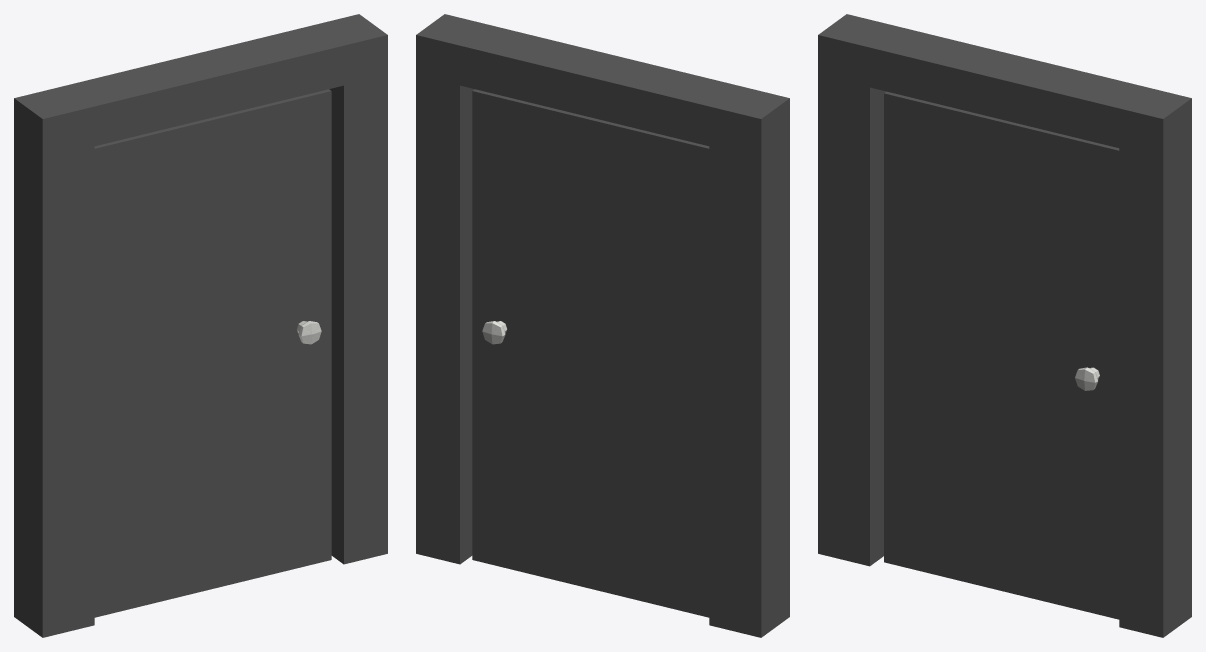
File: door.glb
The picture shows the model from 3 angles, left to right: view 1: azimuth 30°, elevation 25°; view 2: azimuth 150°, elevation 25°; view 3: azimuth 330°, elevation 25°; orthographic projection.
Parts seen in each view (by area): view 1: door_plate-col, door_frame; view 2: door_plate-col, door_frame; view 3: door_plate-col, door_frame.
Boxes of the visible parts, x1,y1,x2,y2 form: door_plate-col: [94, 89, 331, 617]; door_frame: [14, 14, 387, 637]; door_plate-col: [472, 89, 709, 617]; door_frame: [416, 14, 789, 637]; door_plate-col: [884, 91, 1119, 619]; door_frame: [818, 14, 1191, 637].
Size of the model in its own units: 1.81 by 2.6 by 0.2915.
1 material, 1 textured.
